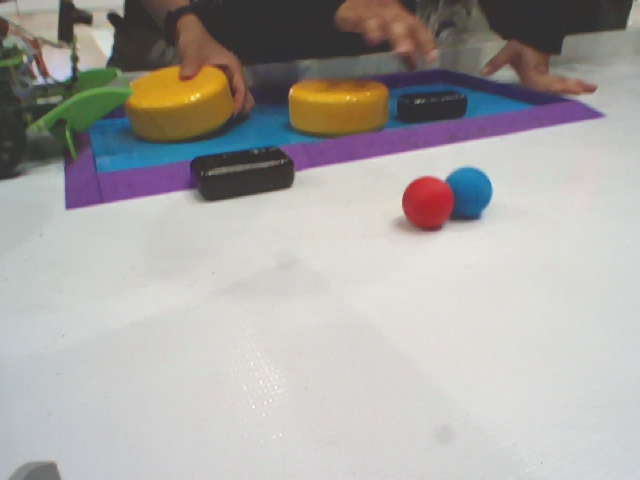black: (178, 149, 303, 210), (392, 88, 476, 118)
blue: (445, 163, 500, 224)
kuang: (62, 38, 611, 217)
red: (399, 164, 459, 244)
yellow: (100, 60, 247, 141), (281, 79, 393, 139)
